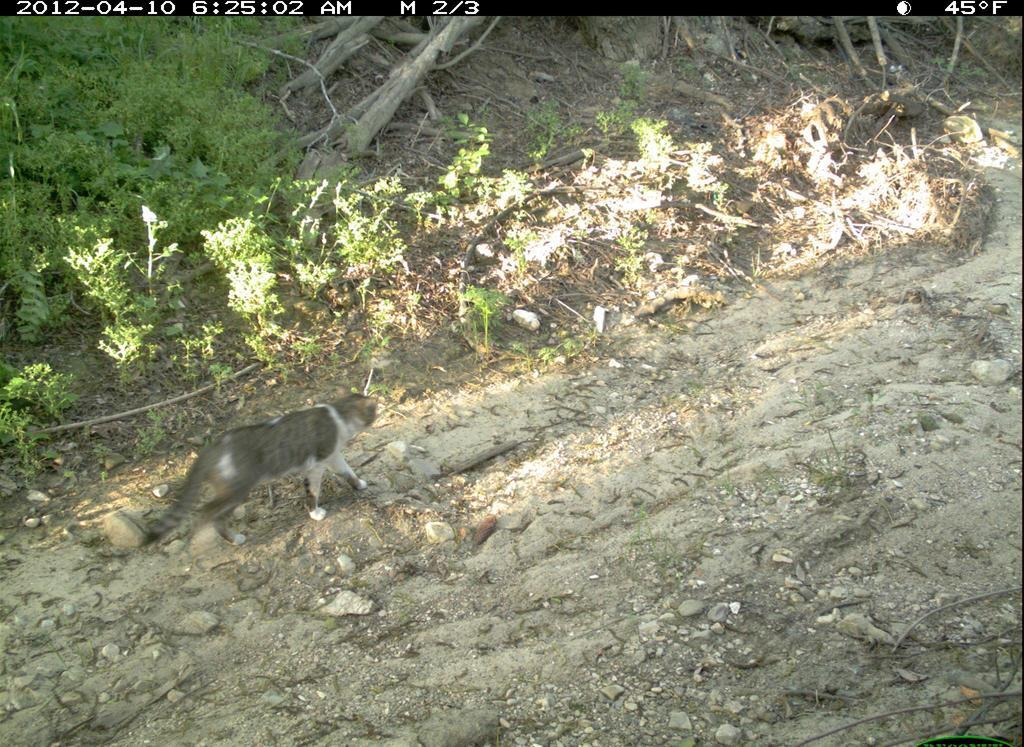cat: (143, 388, 392, 551)
